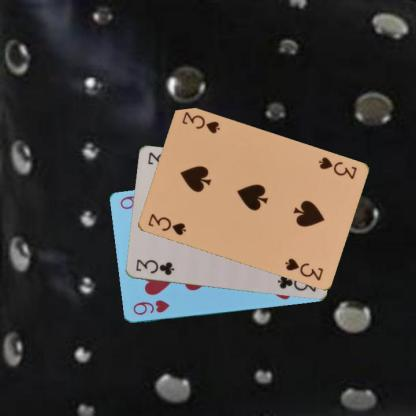3c: (133, 256, 175, 276)
3s: (315, 154, 358, 181), (145, 211, 187, 237)
9h: (130, 298, 170, 316)
